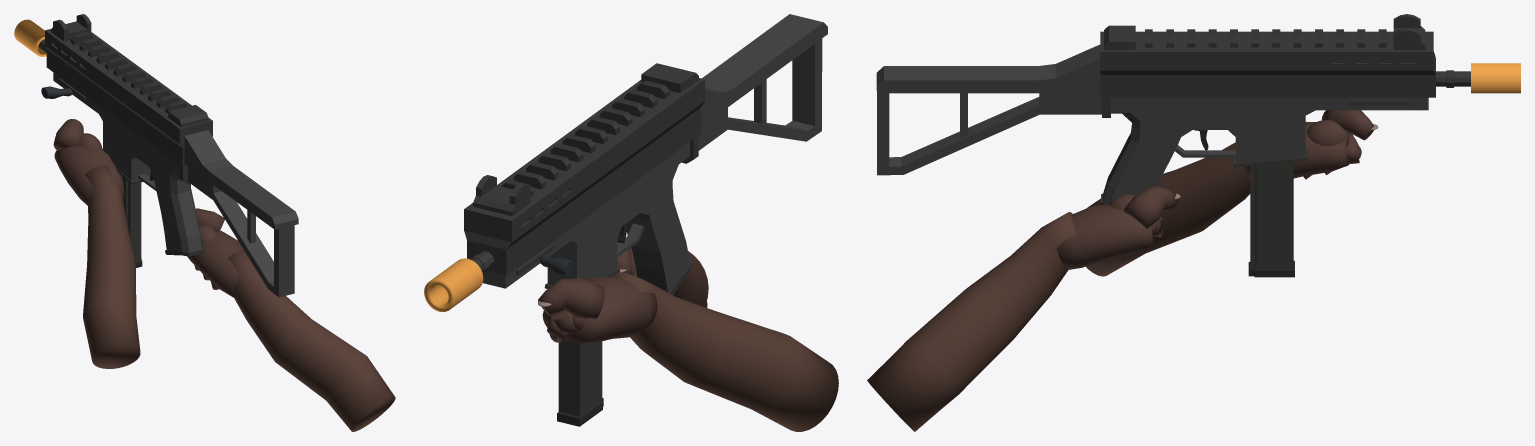
The model's file is whisper.glb.
3 views of the same model, side by side, from view 1: azimuth 30°, elevation 25°; view 2: azimuth 150°, elevation 25°; view 3: azimuth 270°, elevation 25° (orthographic). The views are drawn at different scales.
Visible parts, largest first — view 1: AUTHORED mp5a5 WeaponBodyGeometry, whisper ONE_HAND RIGHT bare anatomical forearm, whisper TWO_HAND LEFT bare anatomical forearm, whisper TWO_HAND LEFT cupped sculpted palm, whisper ONE_HAND RIGHT cupped sculpted palm, AUTHORED mp5a5 MagazineGeometry, AIRSOFT_ORANGE_TIP_07 - fitted hollow muzzle sleeve, whisper TWO_HAND LEFT opposable thumb, AUTHORED mp5a5 FrontIronGeometry, AUTHORED mp5a5 RearIronGeometry, whisper ONE_HAND RIGHT opposable thumb; view 2: AUTHORED mp5a5 WeaponBodyGeometry, whisper TWO_HAND LEFT bare anatomical forearm, whisper TWO_HAND LEFT cupped sculpted palm, AUTHORED mp5a5 MagazineGeometry, AIRSOFT_ORANGE_TIP_07 - fitted hollow muzzle sleeve, whisper TWO_HAND LEFT opposable thumb, AUTHORED mp5a5 FrontIronGeometry, whisper ONE_HAND RIGHT bare anatomical forearm, AUTHORED mp5a5 RearIronGeometry, whisper TWO_HAND LEFT finger 1 articulated, AUTHORED mp5a5 ChargingHandleGeometry; view 3: AUTHORED mp5a5 WeaponBodyGeometry, whisper ONE_HAND RIGHT bare anatomical forearm, whisper TWO_HAND LEFT bare anatomical forearm, AUTHORED mp5a5 MagazineGeometry, whisper ONE_HAND RIGHT cupped sculpted palm, AIRSOFT_ORANGE_TIP_07 - fitted hollow muzzle sleeve, whisper TWO_HAND LEFT cupped sculpted palm, whisper ONE_HAND RIGHT opposable thumb, AUTHORED mp5a5 FrontIronGeometry, whisper TWO_HAND LEFT opposable thumb, whisper TWO_HAND LEFT thenar mound, AUTHORED mp5a5 RearIronGeometry.
Part boxes in pixels (<box>): AUTHORED mp5a5 WeaponBodyGeometry: <box>38,29,298,297</box>; whisper ONE_HAND RIGHT bare anatomical forearm: <box>228,250,395,431</box>; whisper TWO_HAND LEFT bare anatomical forearm: <box>83,165,140,368</box>; whisper TWO_HAND LEFT cupped sculpted palm: <box>54,145,124,205</box>; whisper ONE_HAND RIGHT cupped sculpted palm: <box>187,230,243,297</box>; AUTHORED mp5a5 MagazineGeometry: <box>121,176,142,267</box>; AIRSOFT_ORANGE_TIP_07 - fitted hollow muzzle sleeve: <box>14,19,46,56</box>; whisper TWO_HAND LEFT opposable thumb: <box>53,119,83,150</box>; AUTHORED mp5a5 FrontIronGeometry: <box>51,14,91,41</box>; AUTHORED mp5a5 RearIronGeometry: <box>168,105,208,127</box>; whisper ONE_HAND RIGHT opposable thumb: <box>195,208,224,232</box>; AUTHORED mp5a5 WeaponBodyGeometry: <box>464,14,827,294</box>; whisper TWO_HAND LEFT bare anatomical forearm: <box>611,272,838,431</box>; whisper TWO_HAND LEFT cupped sculpted palm: <box>542,277,657,343</box>; AUTHORED mp5a5 MagazineGeometry: <box>557,340,603,426</box>; AIRSOFT_ORANGE_TIP_07 - fitted hollow muzzle sleeve: <box>424,258,483,312</box>; whisper TWO_HAND LEFT opposable thumb: <box>538,279,604,318</box>; AUTHORED mp5a5 FrontIronGeometry: <box>473,175,530,216</box>; whisper ONE_HAND RIGHT bare anatomical forearm: <box>674,251,708,307</box>; AUTHORED mp5a5 RearIronGeometry: <box>641,63,698,93</box>; whisper TWO_HAND LEFT finger 1 articulated: <box>547,310,578,342</box>; AUTHORED mp5a5 ChargingHandleGeometry: <box>539,254,574,276</box>; AUTHORED mp5a5 WeaponBodyGeometry: <box>876,29,1470,204</box>; whisper ONE_HAND RIGHT bare anatomical forearm: <box>867,212,1076,431</box>; whisper TWO_HAND LEFT bare anatomical forearm: <box>1086,142,1250,276</box>; AUTHORED mp5a5 MagazineGeometry: <box>1248,162,1294,277</box>; whisper ONE_HAND RIGHT cupped sculpted palm: <box>1056,204,1152,269</box>; AIRSOFT_ORANGE_TIP_07 - fitted hollow muzzle sleeve: <box>1471,63,1520,93</box>; whisper TWO_HAND LEFT cupped sculpted palm: <box>1244,122,1348,181</box>; whisper ONE_HAND RIGHT opposable thumb: <box>1123,186,1177,228</box>; AUTHORED mp5a5 FrontIronGeometry: <box>1393,14,1425,49</box>; whisper TWO_HAND LEFT opposable thumb: <box>1321,110,1373,140</box>; whisper TWO_HAND LEFT thenar mound: <box>1307,120,1349,145</box>; AUTHORED mp5a5 RearIronGeometry: <box>1104,25,1135,49</box>.
Bounding box in the file's own units: 0.4149 × 0.5162 × 0.8649.
